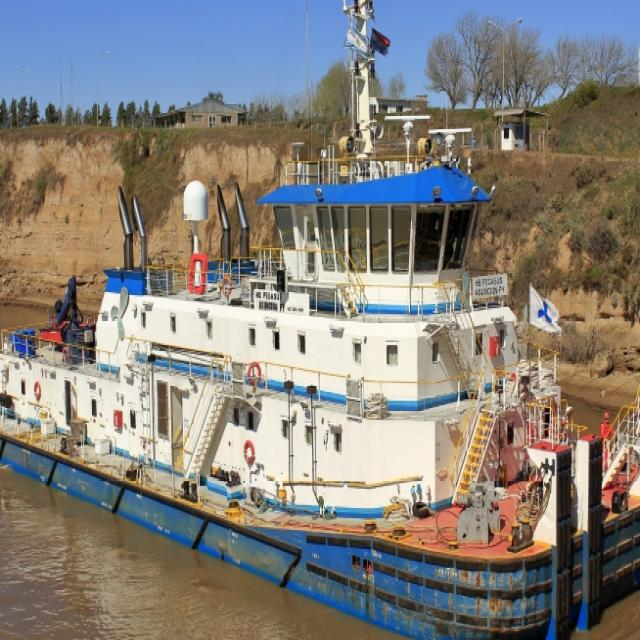tugboat: (1, 108, 640, 640)
